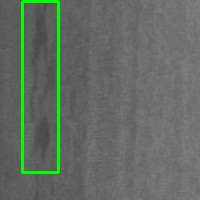inclusion: (22, 1, 58, 172)
